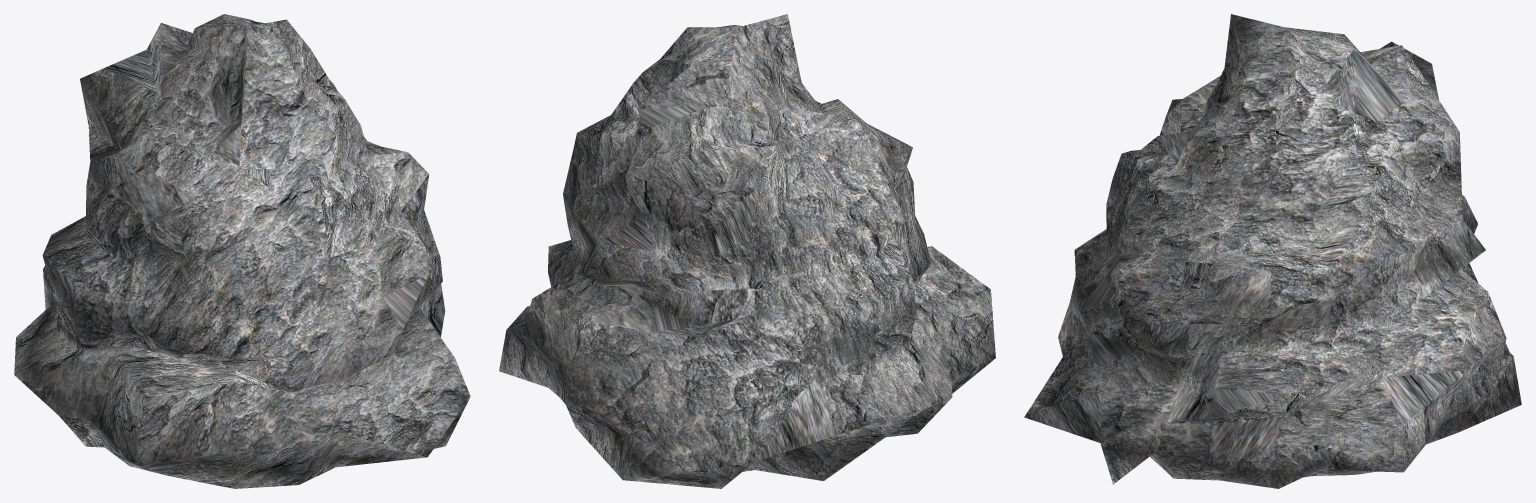
File: rock1.fbx
3 renders of one model, left to right at view 1: azimuth 30°, elevation 25°; view 2: azimuth 150°, elevation 25°; view 3: azimuth 270°, elevation 25°, orthographic. The views are drawn at different scales.
Parts seen in each view (by area): view 1: pSphere1; view 2: pSphere1; view 3: pSphere1.
Part boxes in pixels (box(x1,y1,x2,y2)): pSphere1: box(14, 14, 470, 488); pSphere1: box(499, 14, 995, 488); pSphere1: box(1024, 14, 1521, 488).
Bounding box in the file's own units: 11.99 × 11.57 × 12.46.
1 material, 1 textured.
